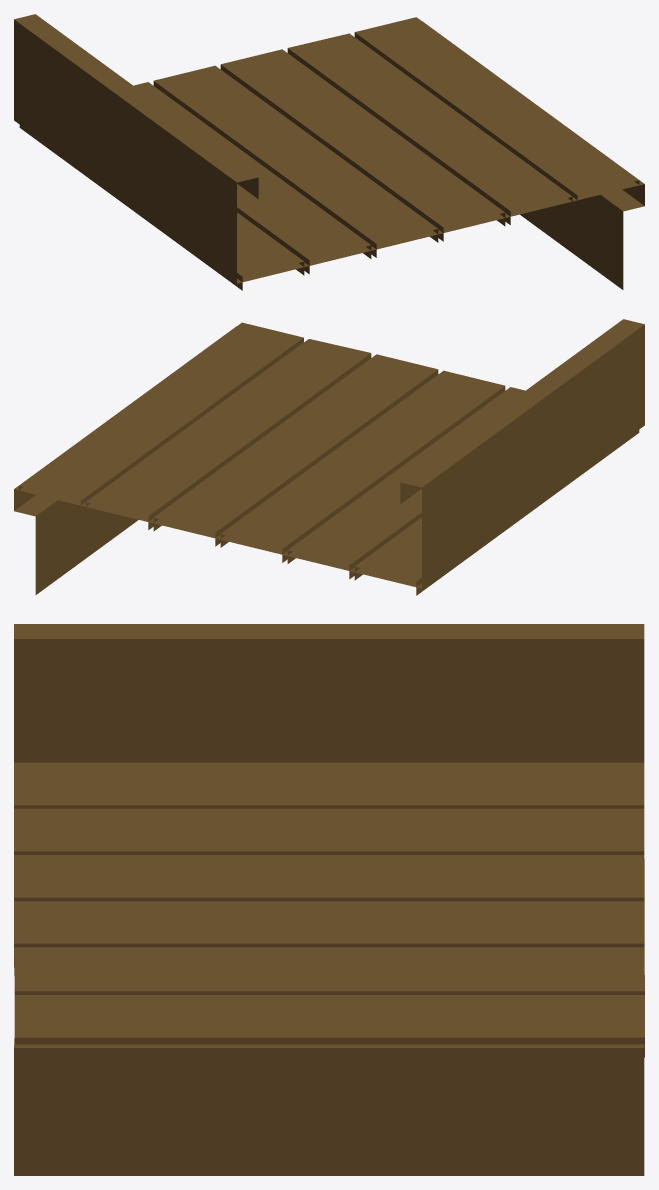
File: StairsCenter.fbx
3 renders of one model, top to bottom at view 1: azimuth 30°, elevation 25°; view 2: azimuth 150°, elevation 25°; view 3: azimuth 270°, elevation 25°, orthographic. The views are drawn at different scales.
Parts seen in each view (by area): view 1: StairsSmallEdge.001; view 2: StairsSmallEdge.001; view 3: StairsSmallEdge.001.
Part boxes in pixels (<box>): StairsSmallEdge.001: <box>14,14,644,290</box>; StairsSmallEdge.001: <box>14,319,644,595</box>; StairsSmallEdge.001: <box>14,624,644,1175</box>.
Bounding box in the file's own units: 106 × 50 × 100.
